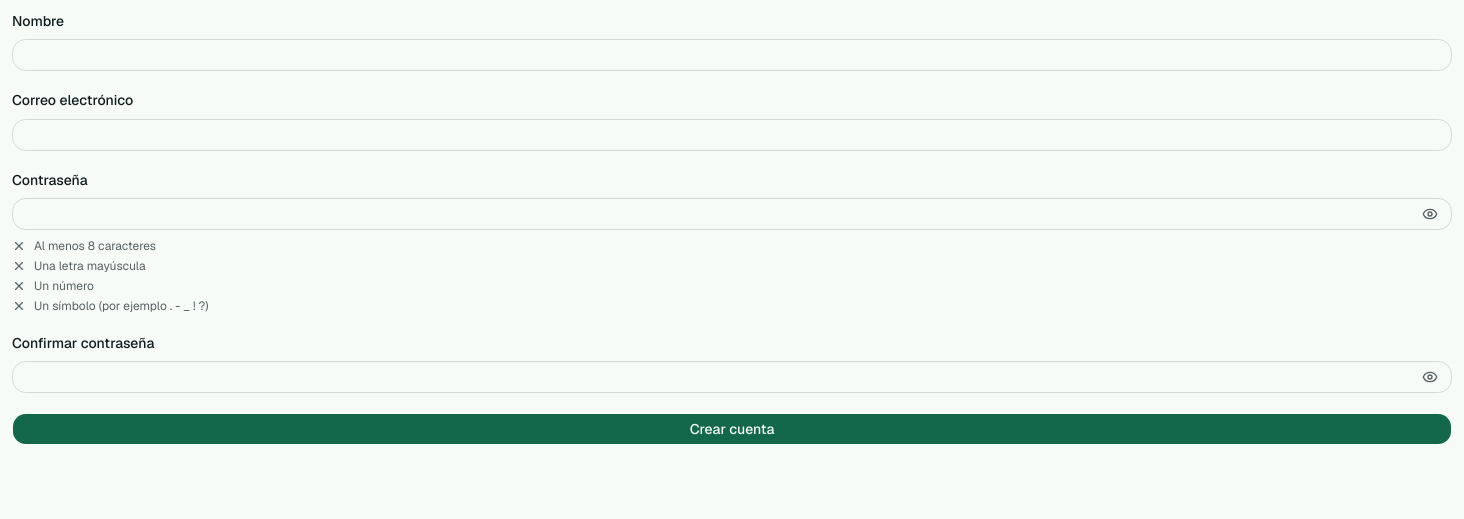
it: SignupForm › shows a specific error if signIn fails right after a successful signup
Type "Ana Pérez" into the field labelled "Nombre" at (732, 55), box [12, 39, 1452, 71]
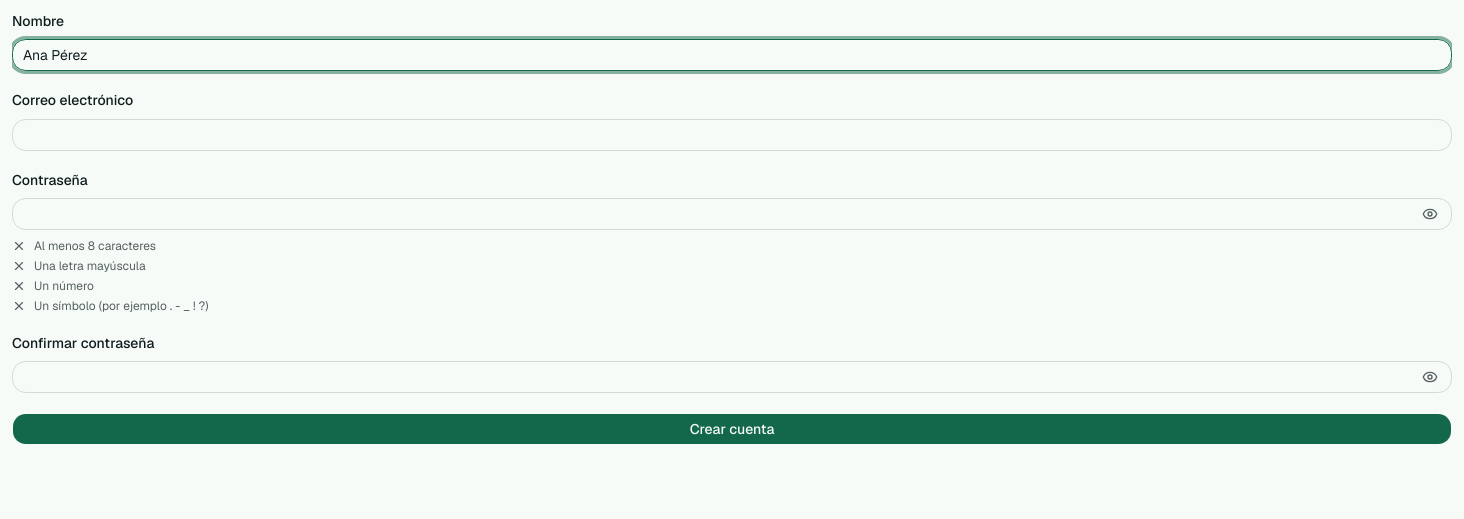
Type "ana@example.com" into the field labelled "Correo electrónico" at (732, 134), box [12, 118, 1452, 150]
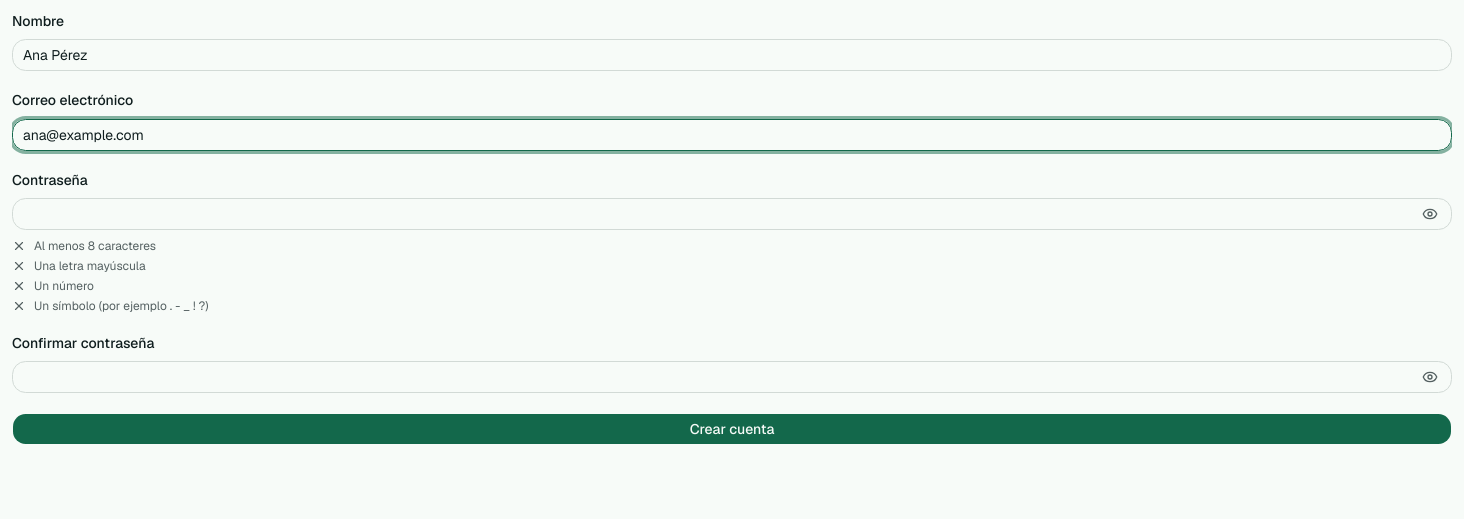
Type "SecurePass123!" into the password field labelled "Contraseña" at (732, 214), box [12, 198, 1452, 230]
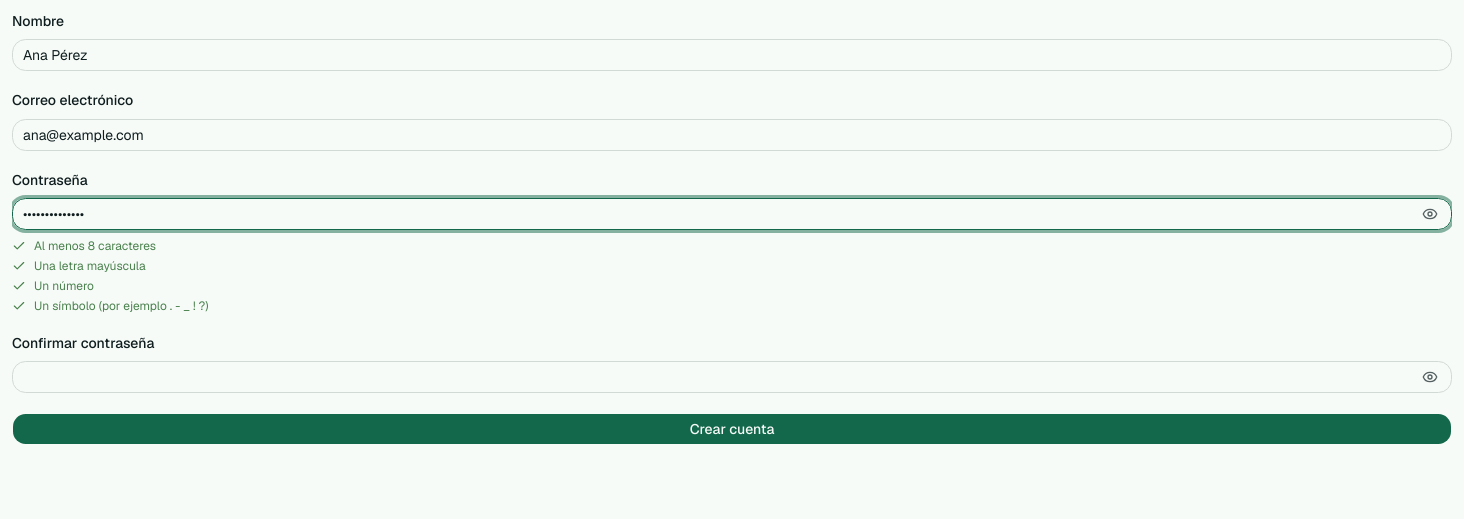
Type "SecurePass123!" into the password field labelled "Confirmar contraseña" at (732, 377), box [12, 361, 1452, 393]
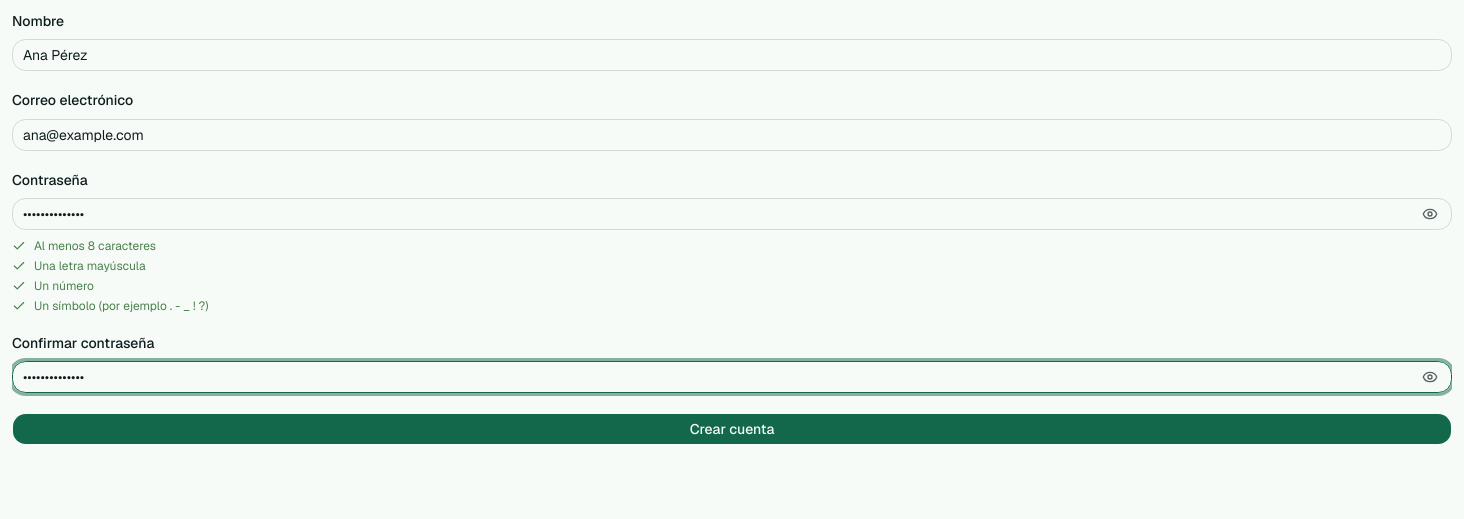
Click the button "Crear cuenta" at (732, 429), box [12, 413, 1452, 445]
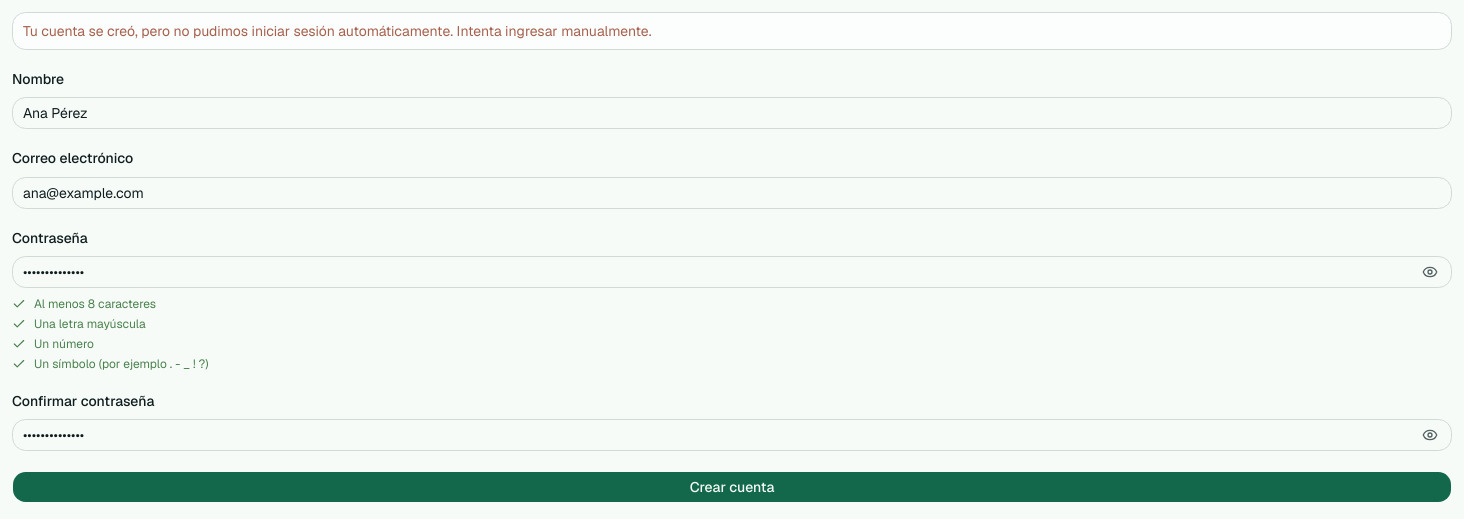
Now the text "no pudimos iniciar sesión autom" is shown, box [23, 22, 652, 40]
